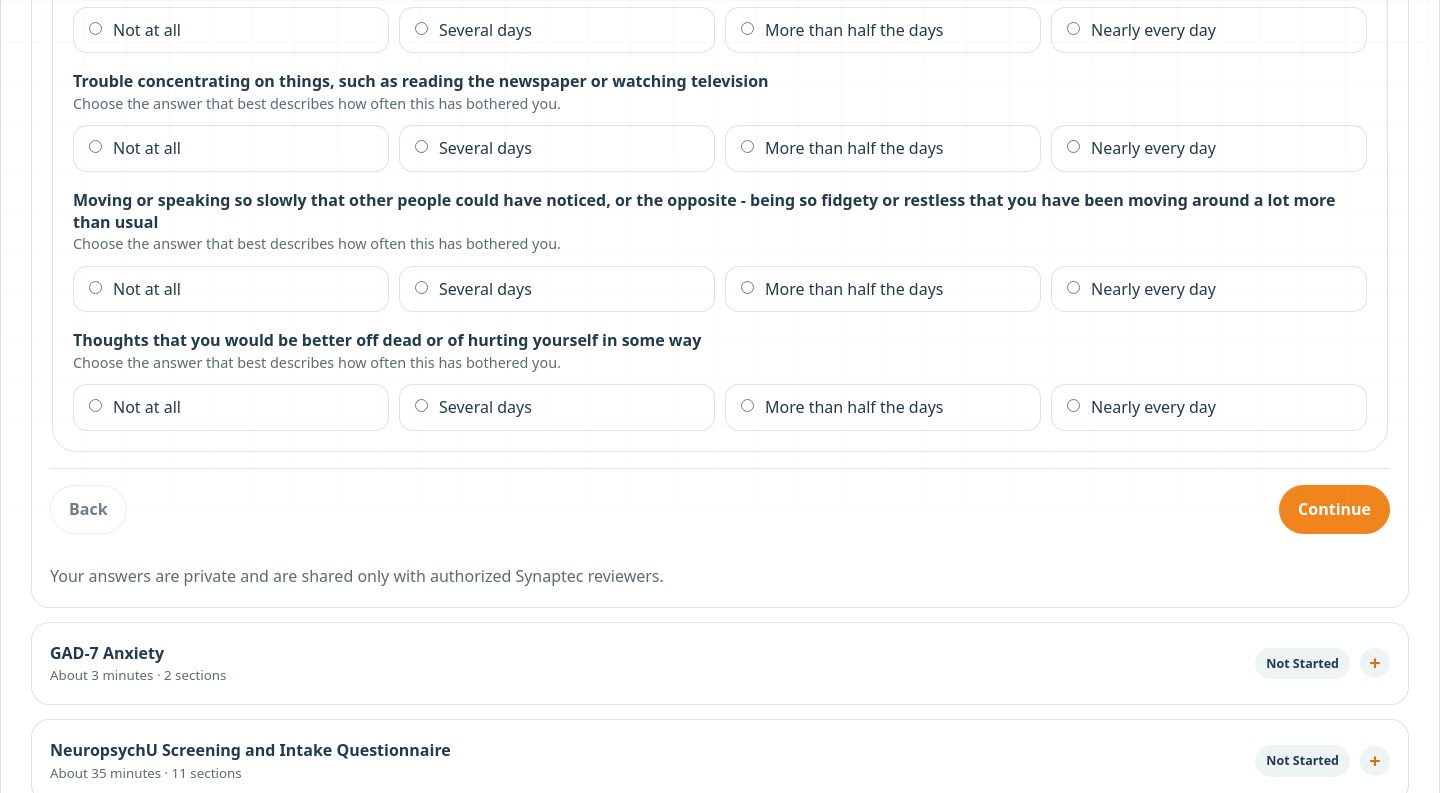
Test: QuestionnaireForm › shows immediate crisis resources for a PHQ-9 question 9 response above not at all
(page scrolled)
Click the 4th radio button labelled "Several days". click: (422, 406)
box: [415,399,428,412]
(page scrolled)
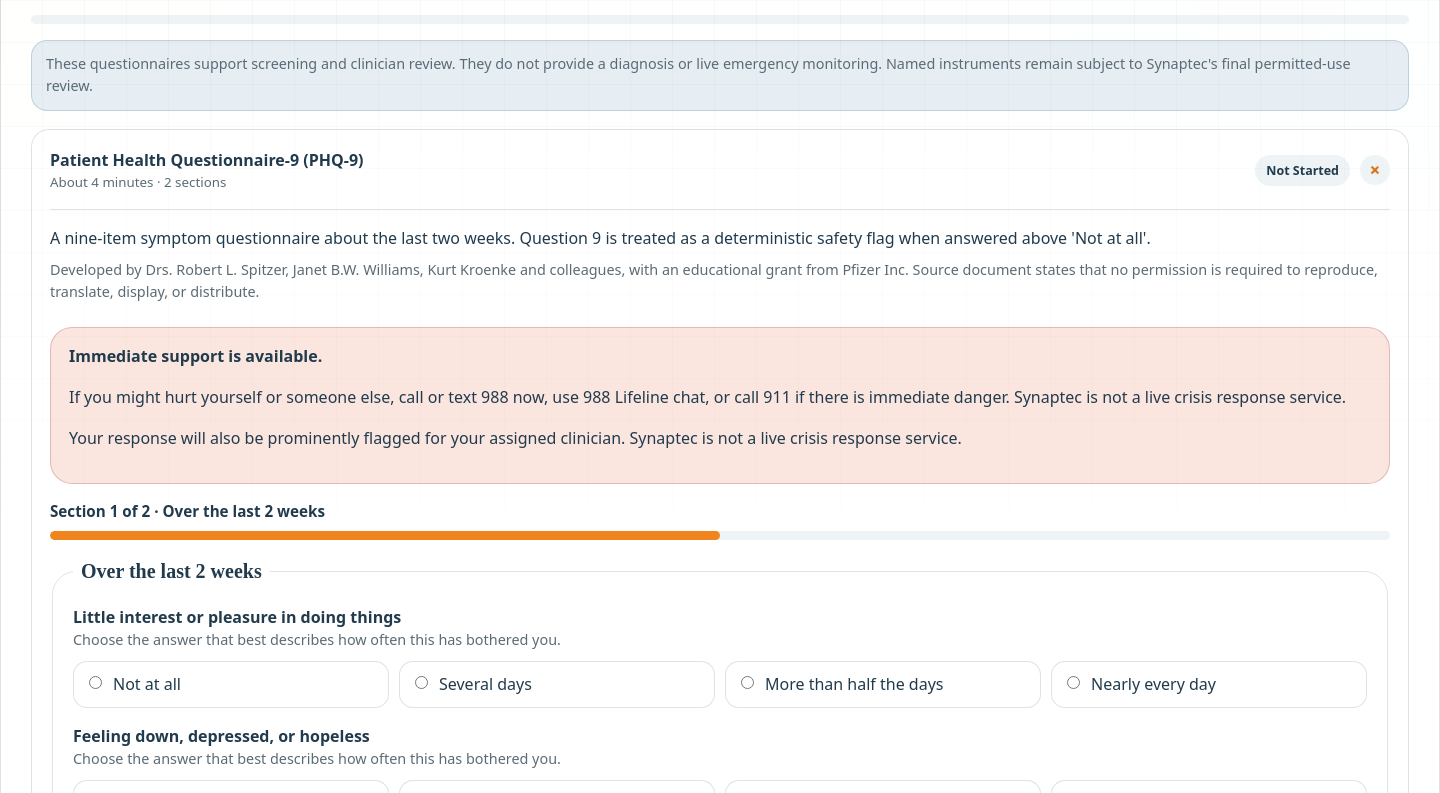
Expected: the message shows "call or text 988", [69,386,1346,408]
